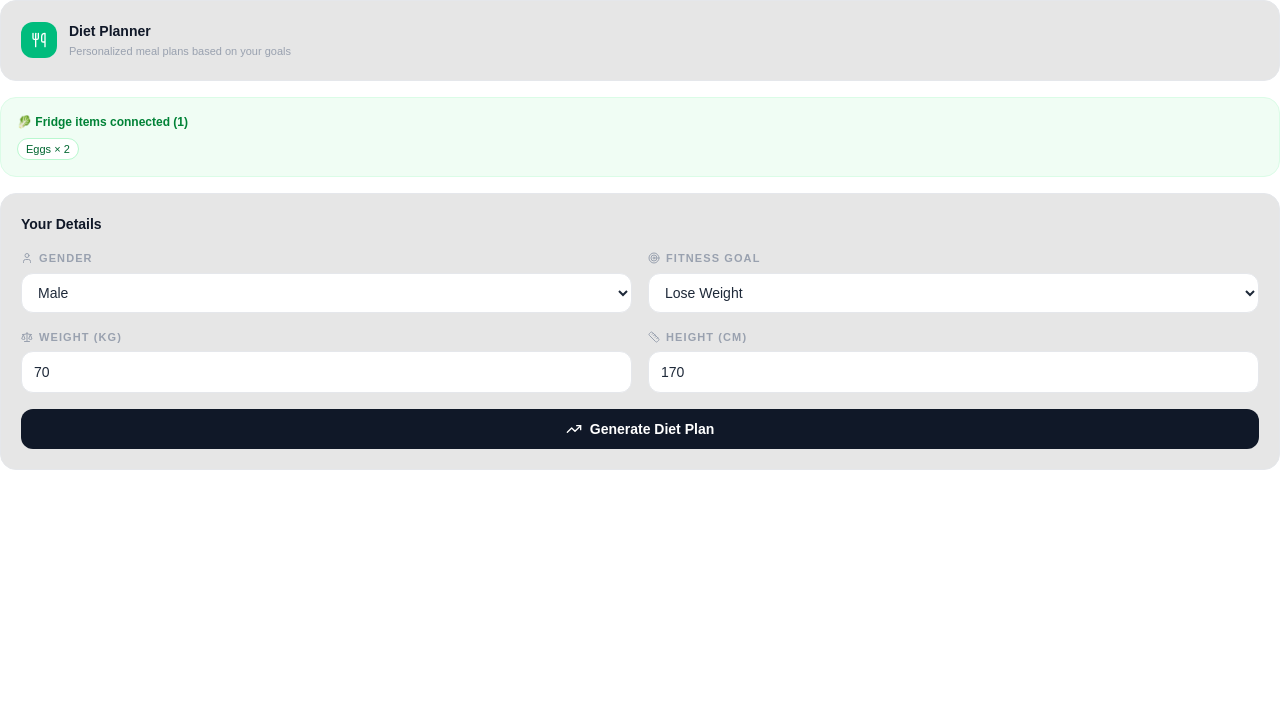
Test: loads fridge items even if profile fetch fails
Expected: the heading "Diet Planner" is shown, [69,23,151,39]
Expected: the text "🥬 Fridge items connected (1)" is shown, [17,114,188,128]
Select "Male" in the dropdown labelled "Gender": (326, 292) [21,272,632,312]
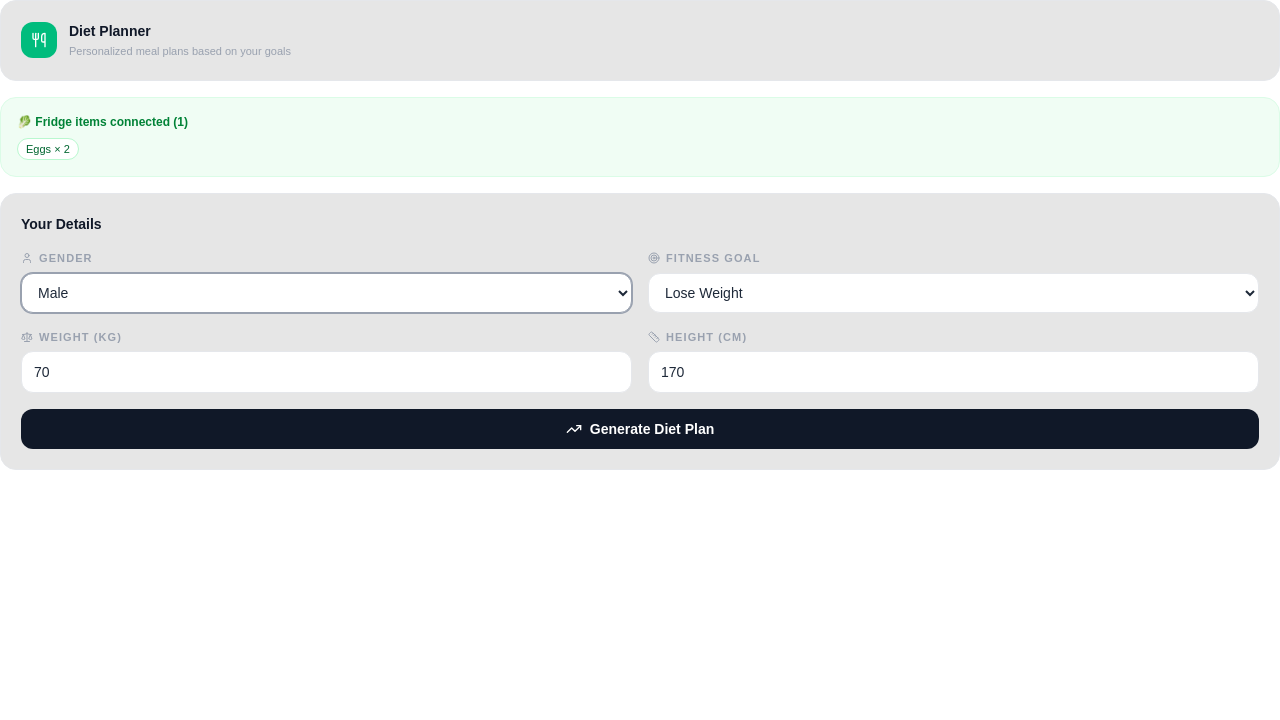
Select "Lose Weight" in the dropdown labelled "Fitness Goal": (954, 292) [648,272,1259,312]
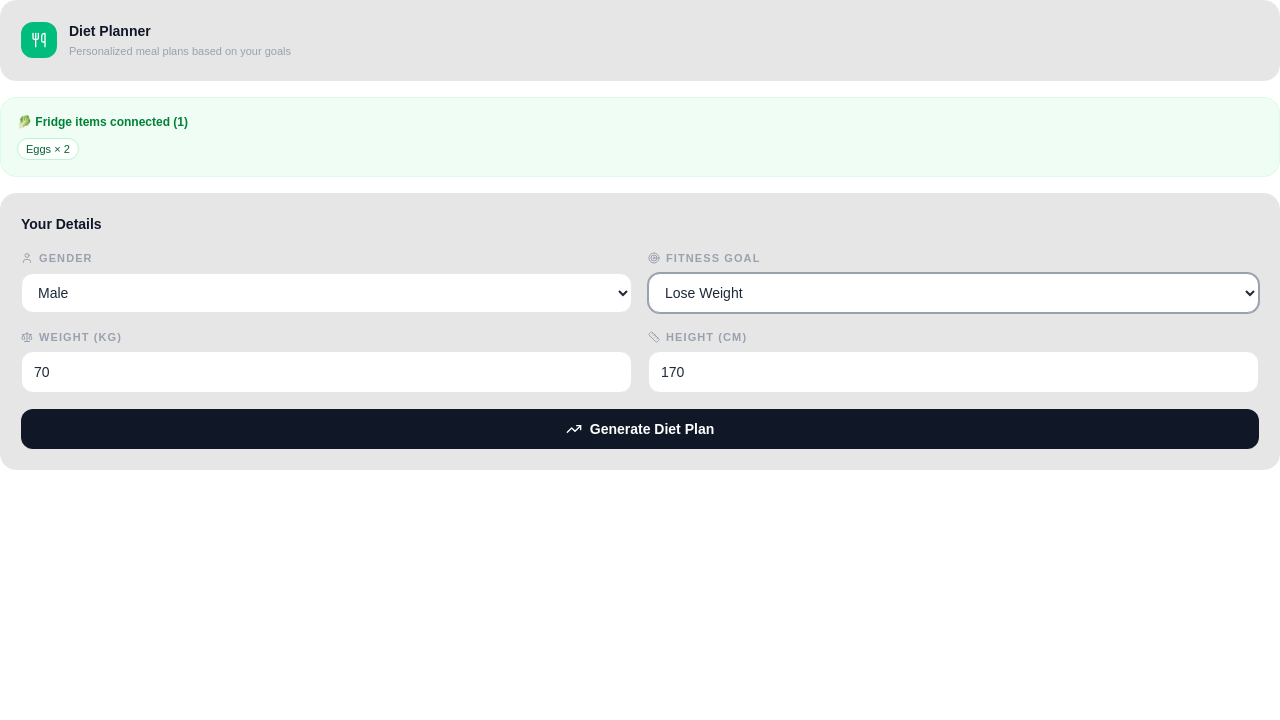
Click the button "Generate Diet Plan": (640, 429) [21,409,1259,449]
(page scrolled)
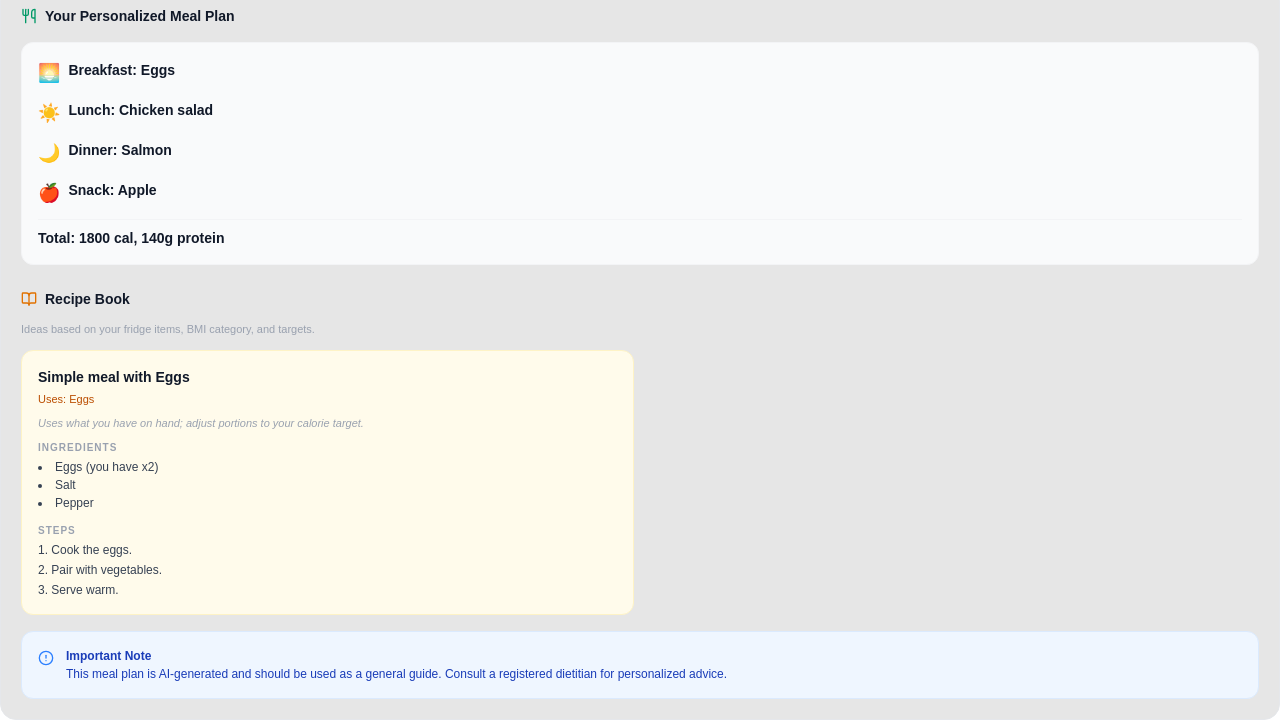
Now the text "Recipe Book" is shown, box [45,289,130,309]
Now the text "Simple meal with Eggs" is shown, box [38,368,190,384]
